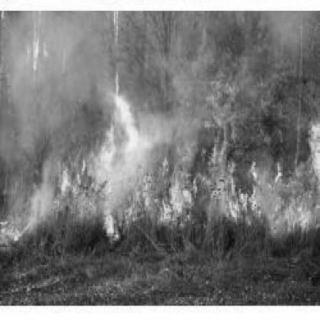Smoke: (230, 12, 314, 126)
